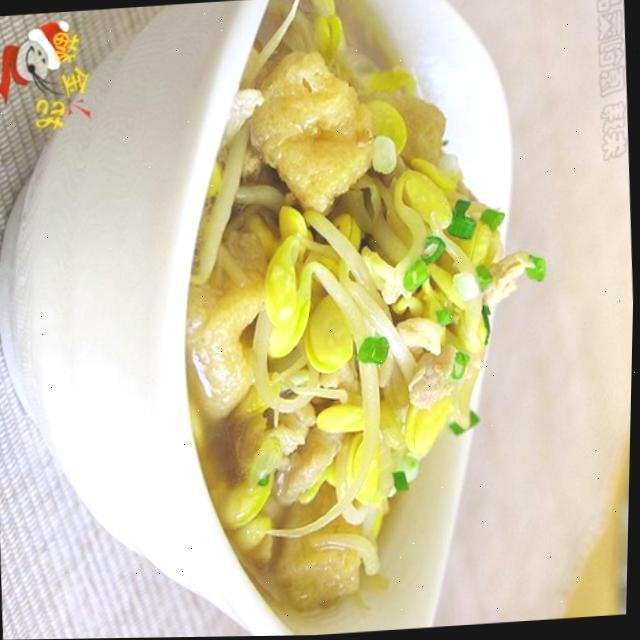豆腐料理: (161, 0, 551, 632)
